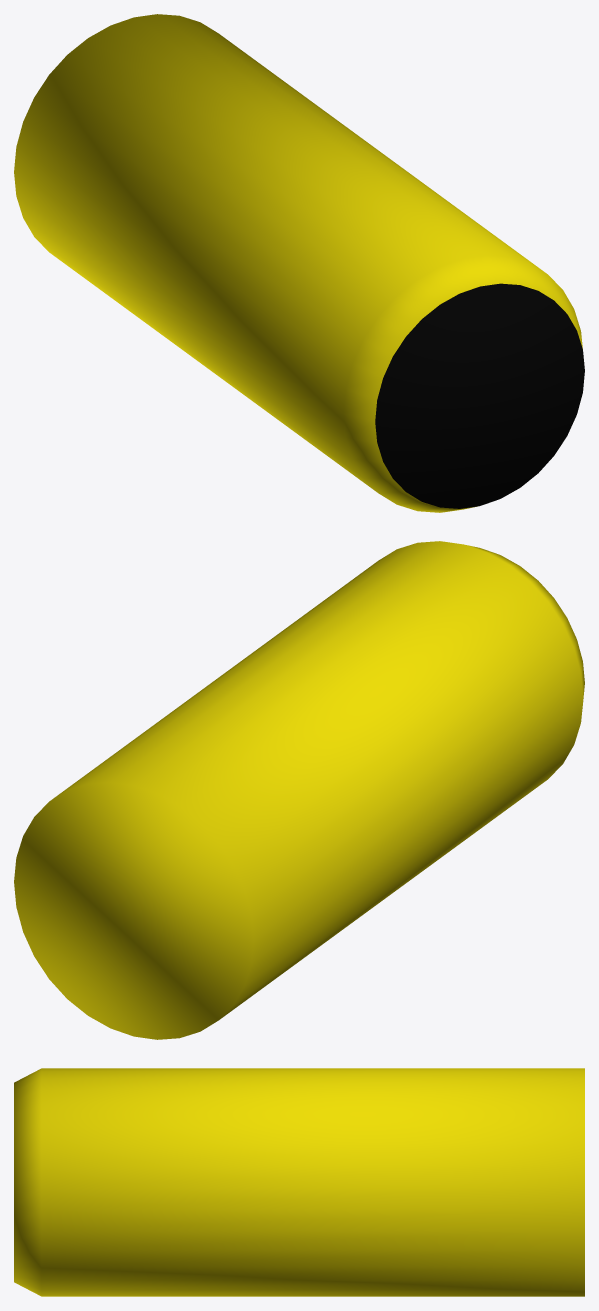
The model's file is shell.glb.
3 renders of one model, top to bottom at view 1: azimuth 30°, elevation 25°; view 2: azimuth 150°, elevation 25°; view 3: azimuth 270°, elevation 25°, orthographic. The views are drawn at different scales.
Visible parts, largest first — view 1: Cylinder; view 2: Cylinder; view 3: Cylinder.
Boxes of the visible parts, x1,y1,x2,y2 form: Cylinder: [14, 14, 584, 512]; Cylinder: [14, 541, 584, 1039]; Cylinder: [14, 1068, 584, 1296].
Size of the model in its own units: 0.02 by 0.02 by 0.05.
